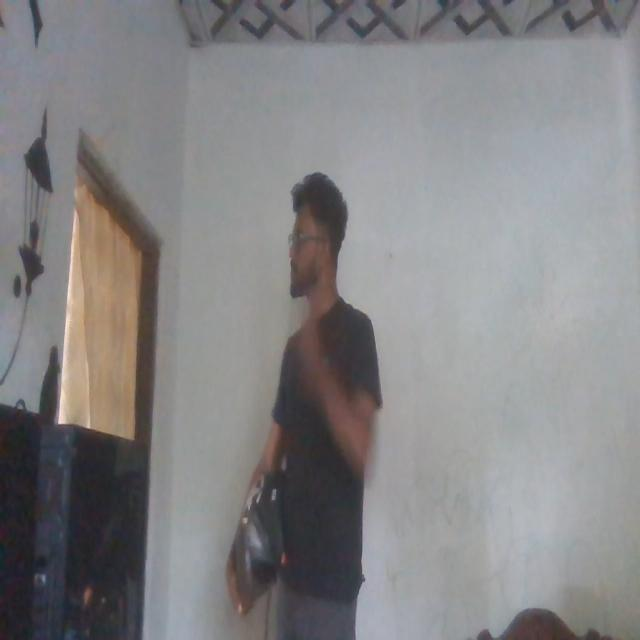Person: (234, 169, 386, 629)
